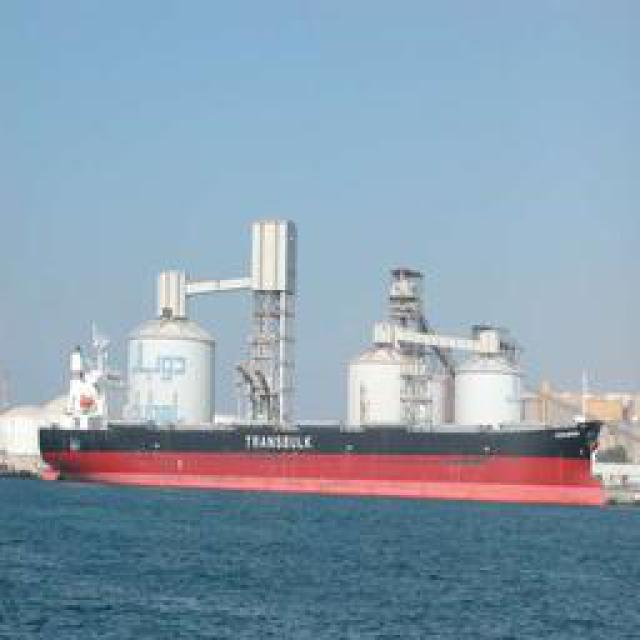Ship: (26, 398, 621, 506)
